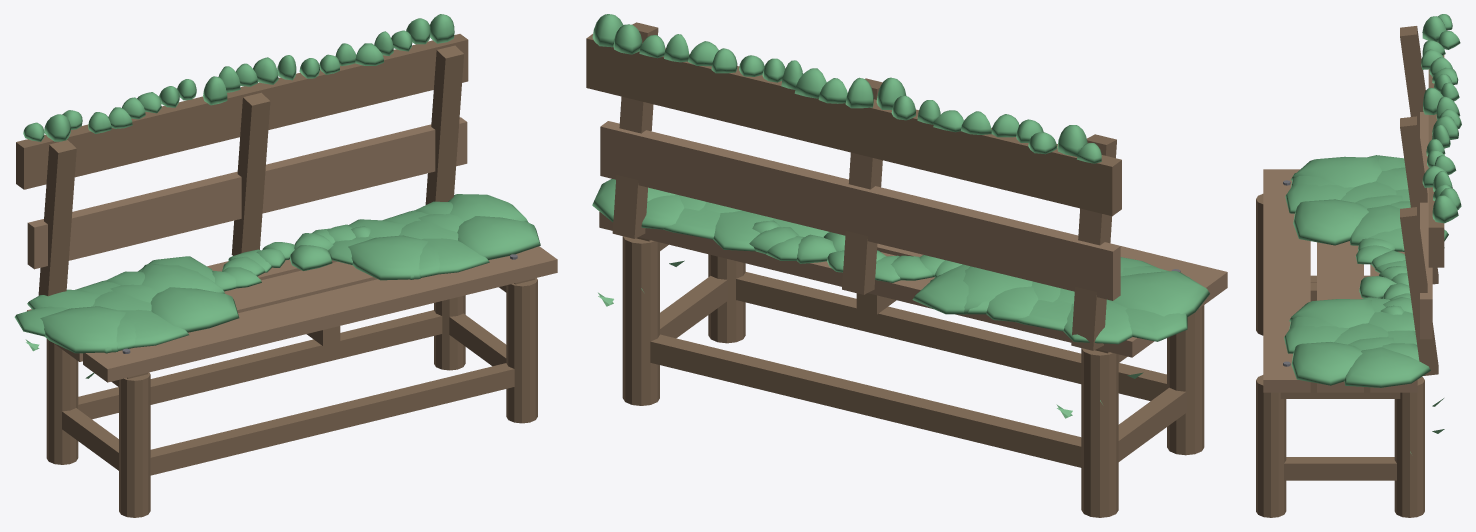
Rendered from prop_wooden_bench.glb.
The picture shows the model from 3 angles, left to right: view 1: azimuth 30°, elevation 25°; view 2: azimuth 150°, elevation 25°; view 3: azimuth 270°, elevation 25°; orthographic projection. The views are drawn at different scales.
Visible parts, largest first — view 1: Backrest_Rail_Lower, Backrest_Rail_Upper, Seat_Plank_0, Seat_Moss_Left_Cluster, Seat_Moss_Right_Cluster, Stretcher_Front, Backrest_Top_Moss_Layer, Stretcher_Back, Bench_Leg_0, Bench_Leg_2, Backrest_Post_0.0, Backrest_Post_0.68 (+7 smaller); view 2: Backrest_Rail_Lower, Backrest_Rail_Upper, Stretcher_Back, Seat_Moss_Left_Cluster, Backrest_Top_Moss_Layer, Stretcher_Front, Bench_Leg_1, Bench_Leg_3, Seat_Moss_Right_Cluster, Seat_Plank_2, Seat_Moss_Center_Seam, Bench_Leg_0 (+7 smaller); view 3: Seat_Moss_Right_Cluster, Seat_Moss_Left_Cluster, Seat_Plank_0, Backrest_Top_Moss_Layer, Bench_Leg_2, Bench_Leg_3, Seat_Moss_Center_Seam, Seat_Plank_1, Stretcher_Right, Backrest_Post_0.68, Backrest_Post_0.0, Backrest_Rail_Lower (+5 smaller).
Boxes of the visible parts, x1,y1,x2,y2 form: Backrest_Rail_Lower: (27,117,467,269); Backrest_Rail_Upper: (16,34,468,189); Seat_Plank_0: (83,246,557,382); Seat_Moss_Left_Cluster: (14,256,239,353); Seat_Moss_Right_Cluster: (328,194,540,280); Stretcher_Front: (150,363,514,475); Backrest_Top_Moss_Layer: (23,14,454,141); Stretcher_Back: (78,310,442,419); Bench_Leg_0: (119,372,150,517); Bench_Leg_2: (506,278,537,423); Backrest_Post_0.0: (231,92,270,255); Backrest_Post_0.68: (425,45,463,204); Backrest_Rail_Lower: (600,121,1120,300); Backrest_Rail_Upper: (586,34,1121,216); Stretcher_Back: (650,334,1081,467); Seat_Moss_Left_Cluster: (912,257,1209,344); Backrest_Top_Moss_Layer: (592,14,1101,163); Stretcher_Front: (736,272,1167,401); Bench_Leg_1: (1081,348,1118,517); Bench_Leg_3: (622,236,659,405); Seat_Moss_Right_Cluster: (592,179,829,251); Seat_Plank_2: (599,211,1153,357); Seat_Moss_Center_Seam: (749,220,962,282); Bench_Leg_0: (1167,305,1204,455); Seat_Moss_Right_Cluster: (1284,297,1430,387); Seat_Moss_Left_Cluster: (1285,155,1448,251); Seat_Plank_0: (1263,169,1310,392); Backrest_Top_Moss_Layer: (1421,14,1461,223); Bench_Leg_2: (1256,375,1286,517); Bench_Leg_3: (1394,376,1424,517); Seat_Moss_Center_Seam: (1355,238,1412,314); Seat_Plank_1: (1317,241,1363,392); Stretcher_Right: (1284,457,1396,480); Backrest_Post_0.68: (1400,207,1438,375); Backrest_Post_0.0: (1400,116,1438,284); Backrest_Rail_Lower: (1420,112,1432,339).
Bounding box in the file's own units: 1.73 × 1.12 × 0.6535.
